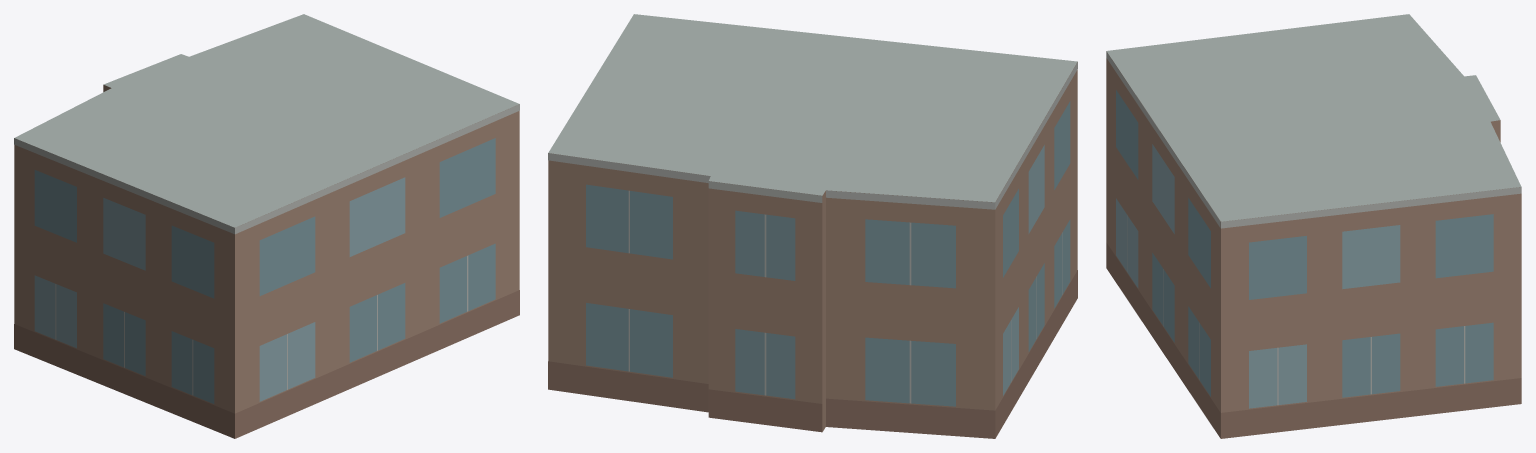
Rendered from survey-upis-32623842.glb.
3 renders of one model, left to right at view 1: azimuth 30°, elevation 25°; view 2: azimuth 150°, elevation 25°; view 3: azimuth 270°, elevation 25°, orthographic. The views are drawn at different scales.
Visible parts, largest first — view 1: survey-upis-32623842.tmp; view 2: survey-upis-32623842.tmp; view 3: survey-upis-32623842.tmp.
Boxes of the visible parts, box(x1,y1,x2,y2) form: survey-upis-32623842.tmp: box(14, 14, 519, 438); survey-upis-32623842.tmp: box(548, 14, 1077, 438); survey-upis-32623842.tmp: box(1106, 14, 1521, 438).
Bounding box in the file's own units: 16.02 × 7.8 × 13.53.
